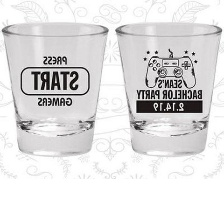glass: (110, 16, 224, 159), (0, 15, 110, 163)
